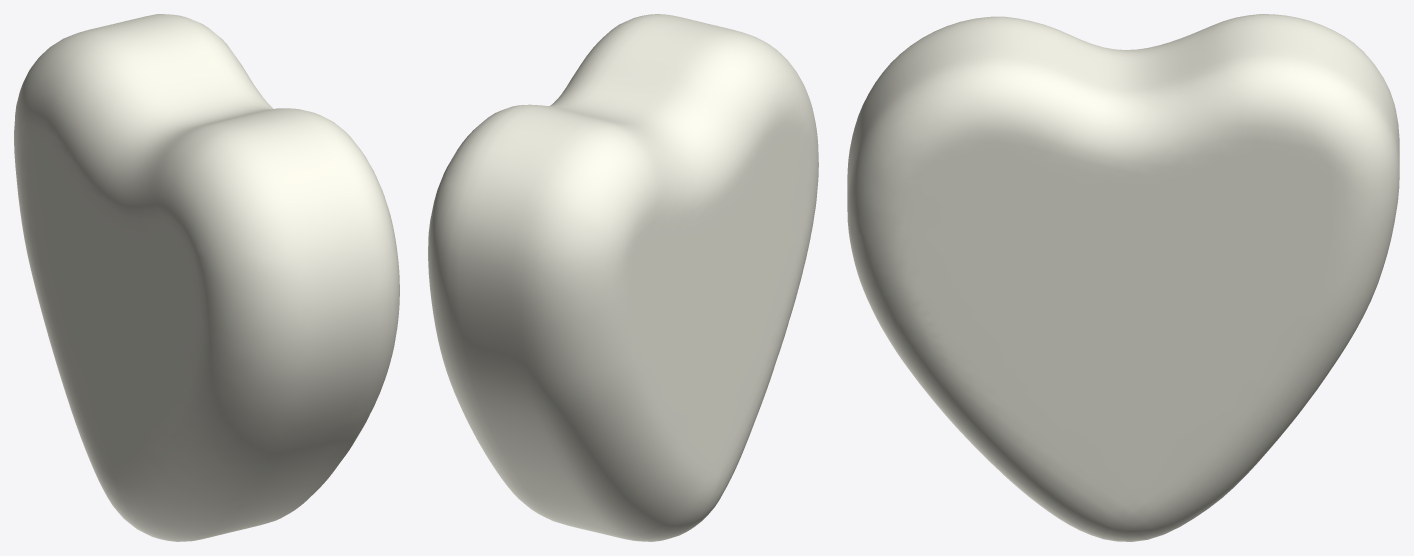
File: Heart_Pill_Individual_Beige.glb
The picture shows the model from 3 angles, left to right: view 1: azimuth 30°, elevation 25°; view 2: azimuth 150°, elevation 25°; view 3: azimuth 270°, elevation 25°; orthographic projection. The views are drawn at different scales.
Parts seen in each view (by area): view 1: Color_Beige_Heart.001; view 2: Color_Beige_Heart.001; view 3: Color_Beige_Heart.001.
Part boxes in pixels (left/top/right/bottom): Color_Beige_Heart.001: left=14, top=14, right=399, bottom=541; Color_Beige_Heart.001: left=428, top=14, right=818, bottom=541; Color_Beige_Heart.001: left=847, top=14, right=1399, bottom=541.
Bounding box in the file's own units: 0.6037 × 1.44 × 1.5.
Materials: 1 (1 with a texture image).
